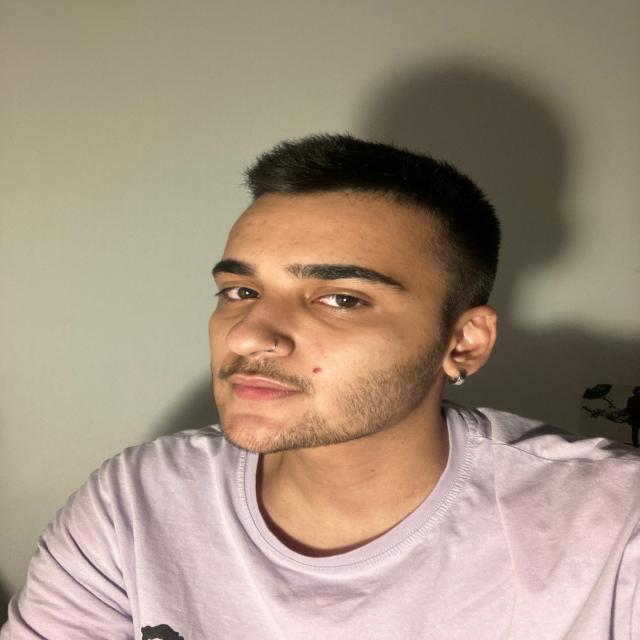Acne: (304, 358, 332, 384), (386, 328, 416, 350)
